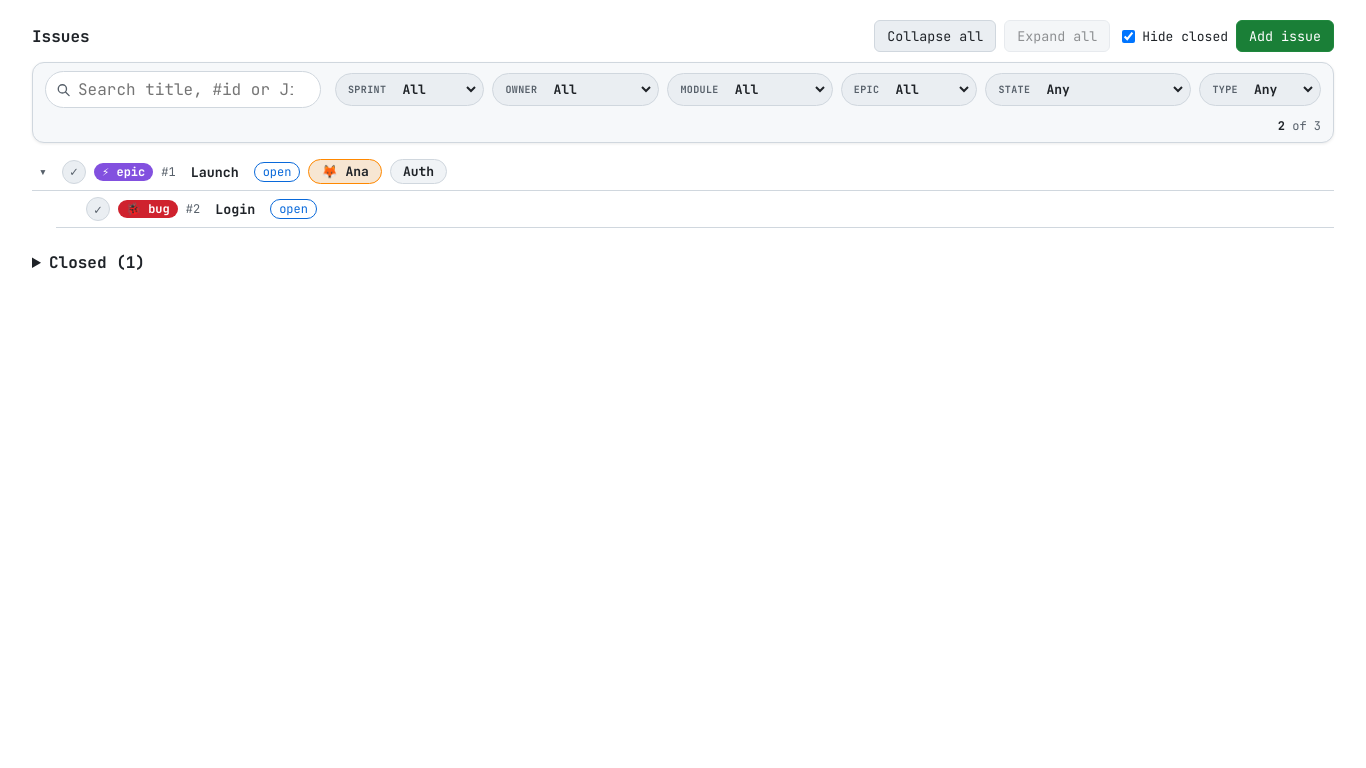
Test: IssuesPage › shows server errors inline
The image size is (1366, 768).
Click the button "Add issue". click: (1285, 36)
box: 1236,20 -> 1334,52
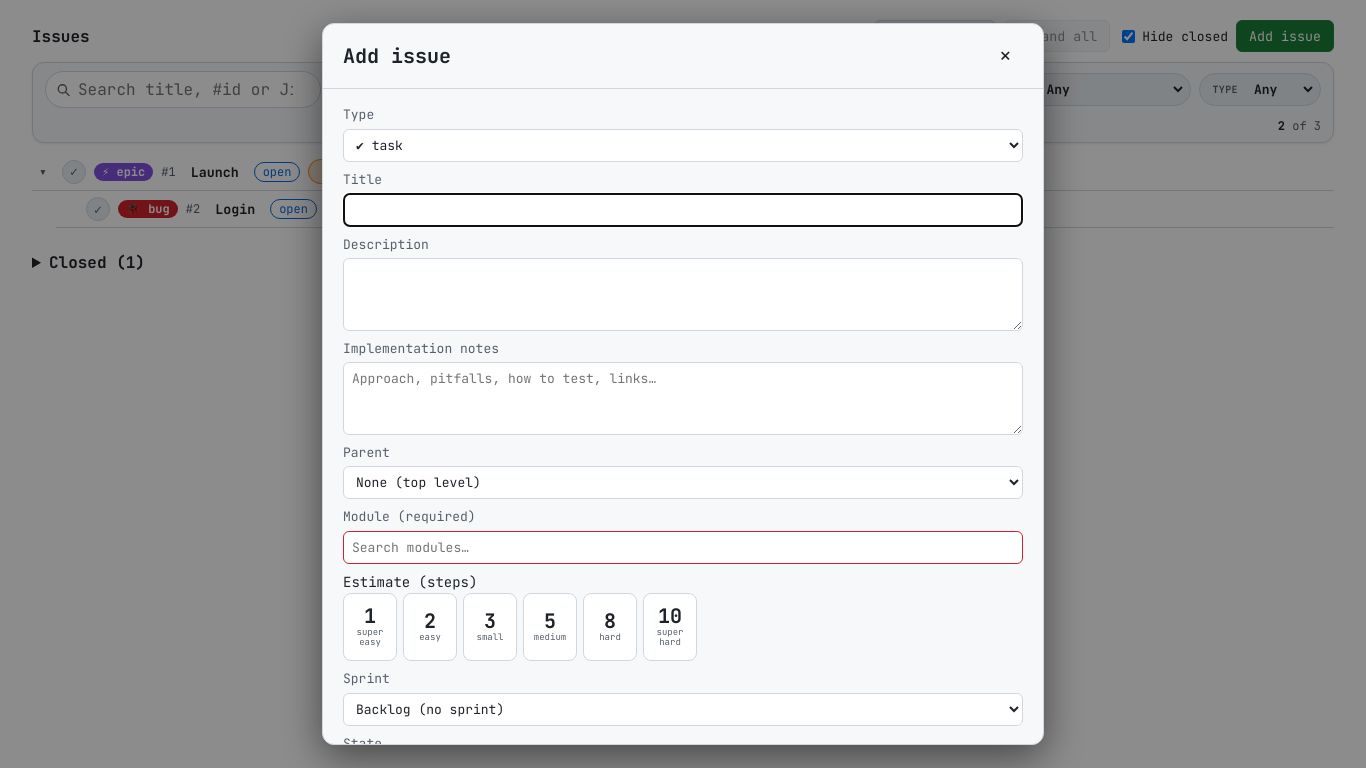
Type "x" into the field labelled "Title". click: (683, 210)
box: 343,193 -> 1023,226
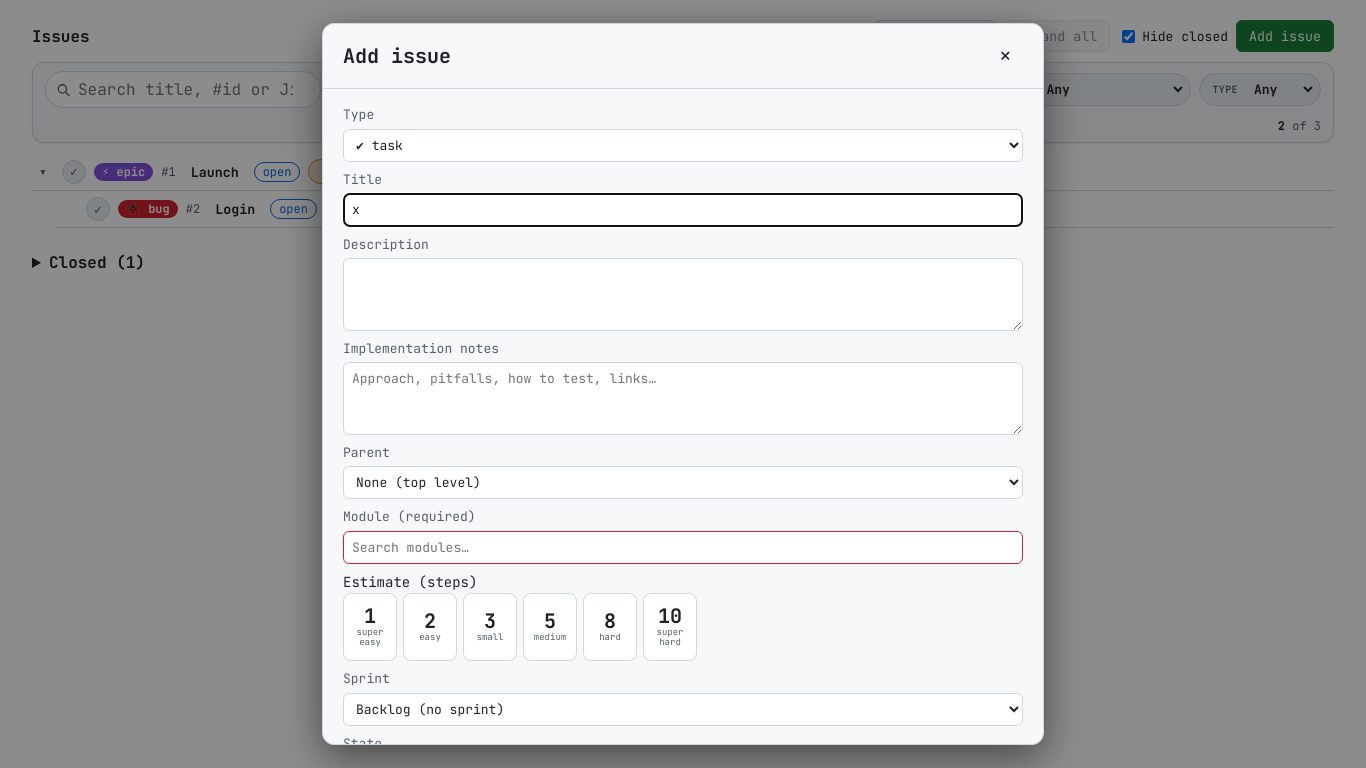
Select "📖 story" in the dropdown labelled "Type". click: (683, 145)
box: 343,128 -> 1023,162
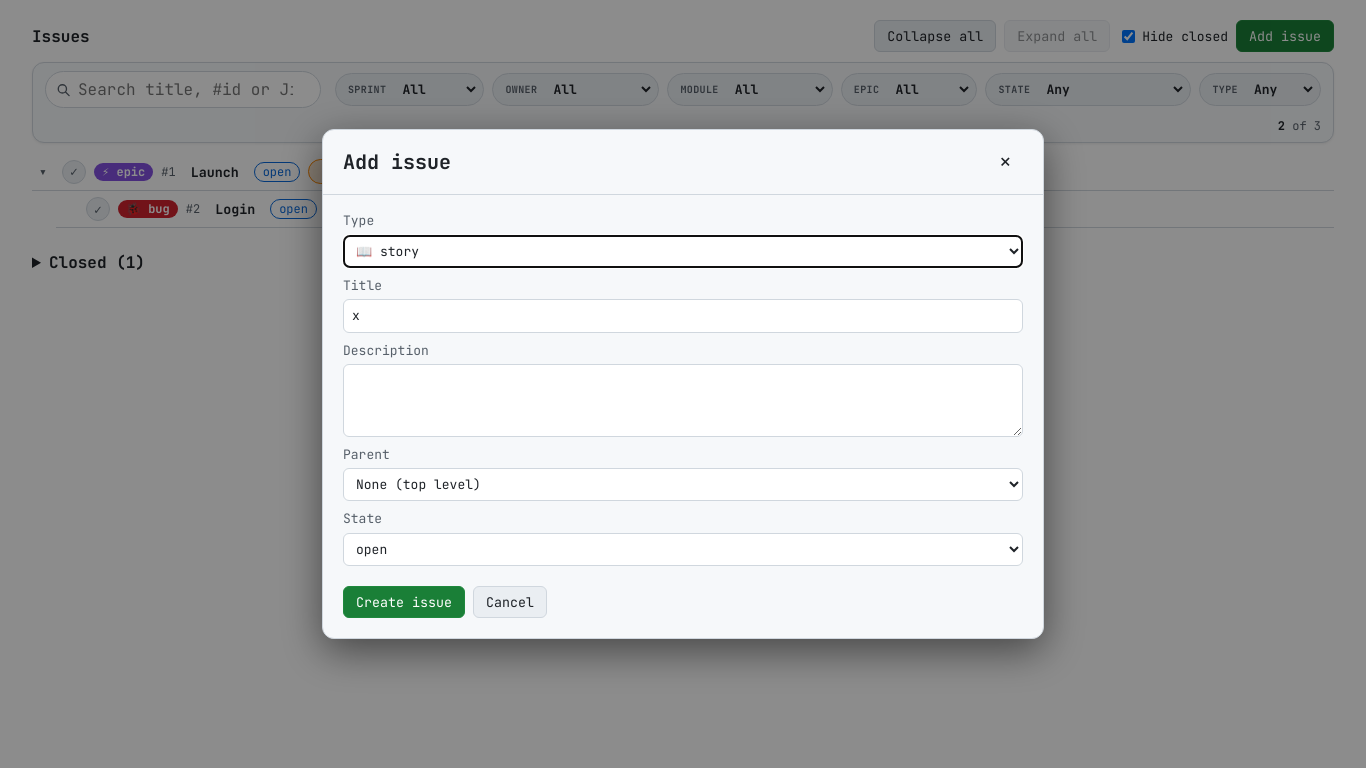
Click the button "Create issue". click: (404, 602)
box: 343,586 -> 465,618
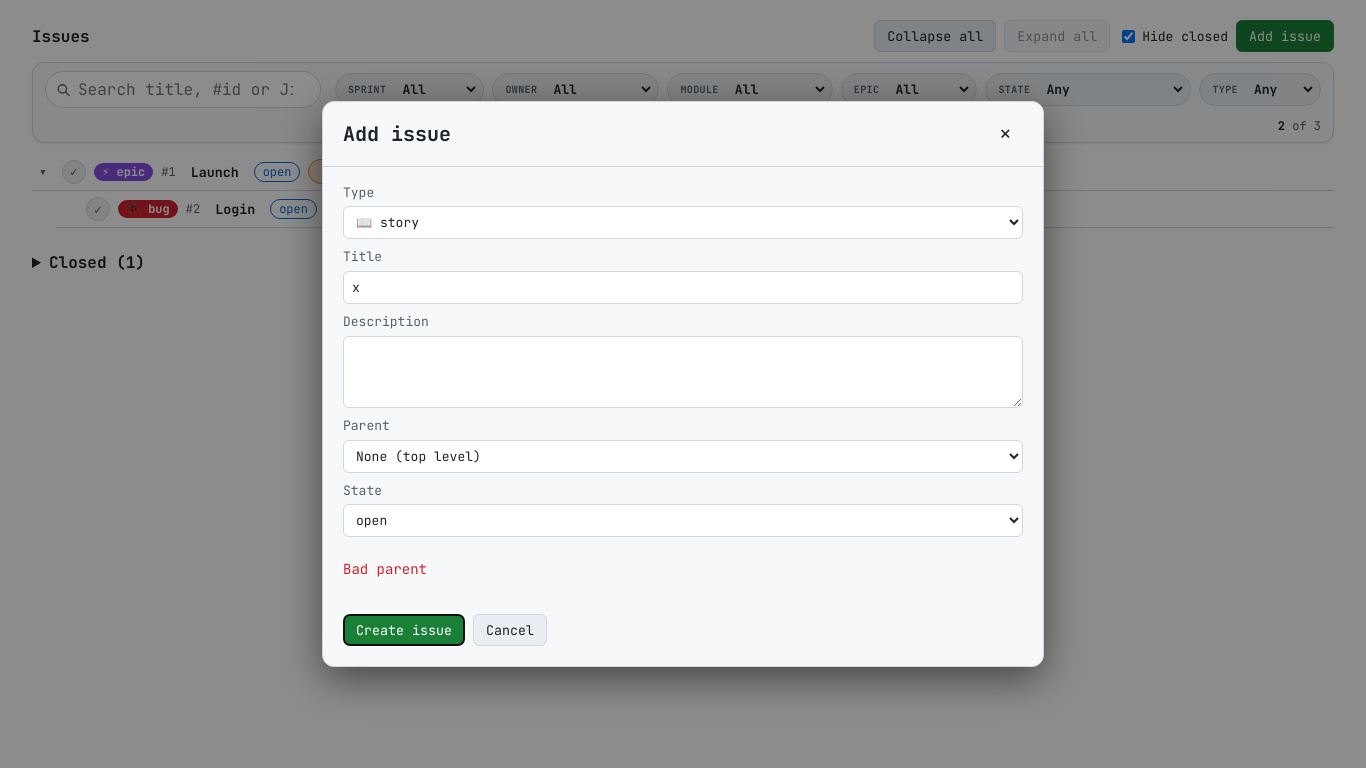
Check: the message reads "Bad parent", box 343,560 -> 427,578
